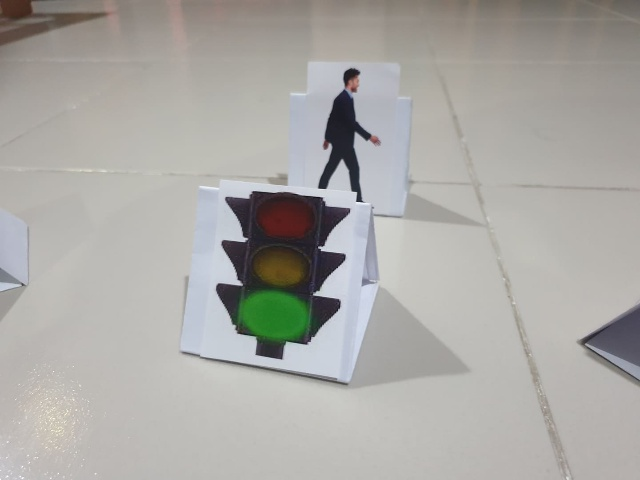Green: (213, 188, 346, 374)
Person: (314, 62, 383, 208)
